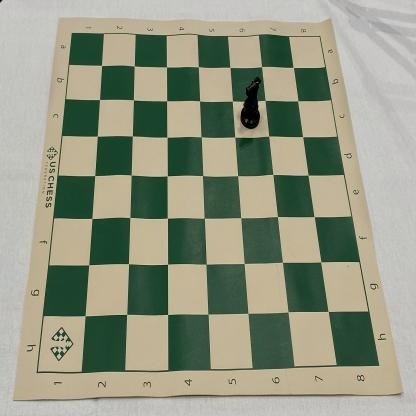black-knight: (240, 76, 262, 130)
